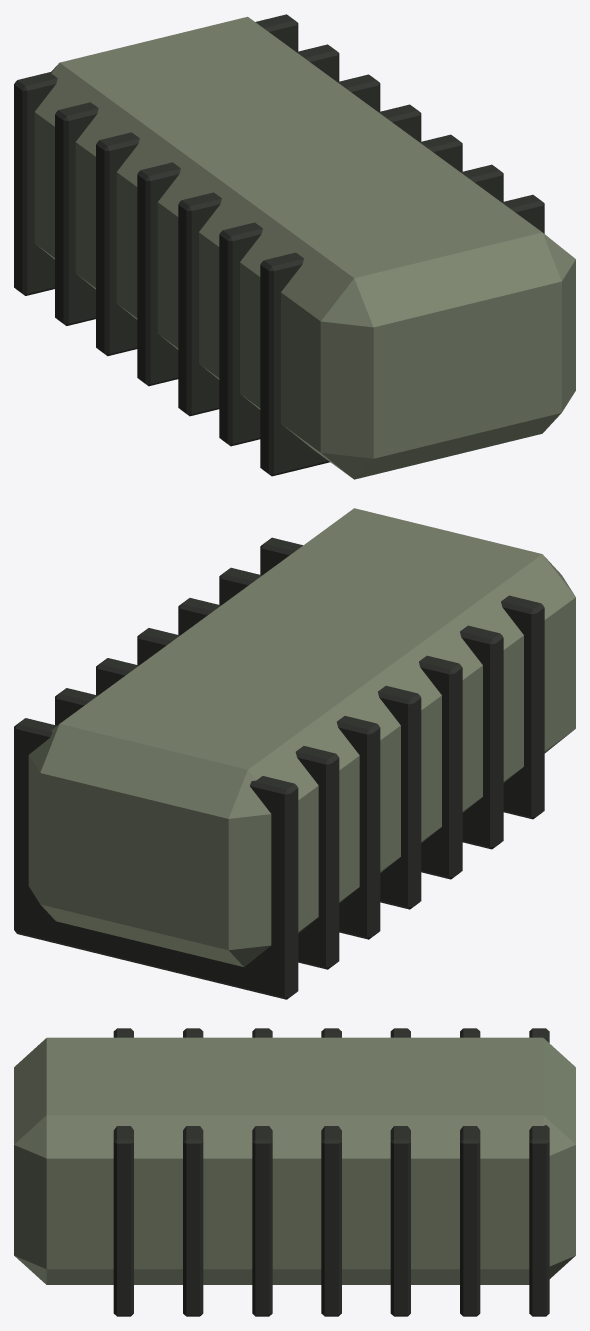
File: att_grip_pump.glb
3 renders of one model, top to bottom at view 1: azimuth 30°, elevation 25°; view 2: azimuth 150°, elevation 25°; view 3: azimuth 270°, elevation 25°, orthographic. The views are drawn at different scales.
Visible parts, largest first — view 1: Geometry_att_grip_pump; view 2: Geometry_att_grip_pump; view 3: Geometry_att_grip_pump.
Boxes of the visible parts, box(x1,y1,x2,y2) form: Geometry_att_grip_pump: box(14, 14, 575, 479); Geometry_att_grip_pump: box(14, 508, 575, 999); Geometry_att_grip_pump: box(14, 1028, 575, 1316).
Size of the model in its own units: 0.066 by 0.05 by 0.138.
